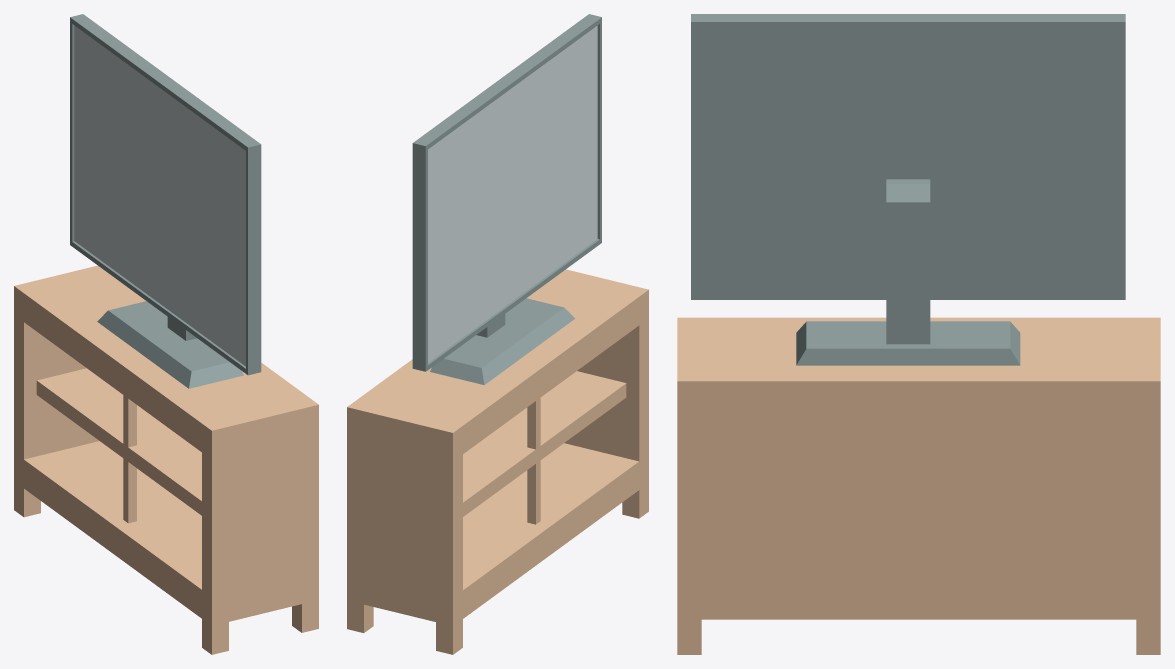
File: Prop_TV.glb
3 renders of one model, left to right at view 1: azimuth 30°, elevation 25°; view 2: azimuth 150°, elevation 25°; view 3: azimuth 270°, elevation 25°, orthographic. The views are drawn at different scales.
Visible parts, largest first — view 1: Prop_TV; view 2: Prop_TV; view 3: Prop_TV.
Part boxes in pixels (bbox=[...]): Prop_TV: bbox=[14, 14, 318, 654]; Prop_TV: bbox=[347, 14, 648, 654]; Prop_TV: bbox=[677, 14, 1160, 654].
Size of the model in its own units: 0.25 by 1.1 by 0.8.
